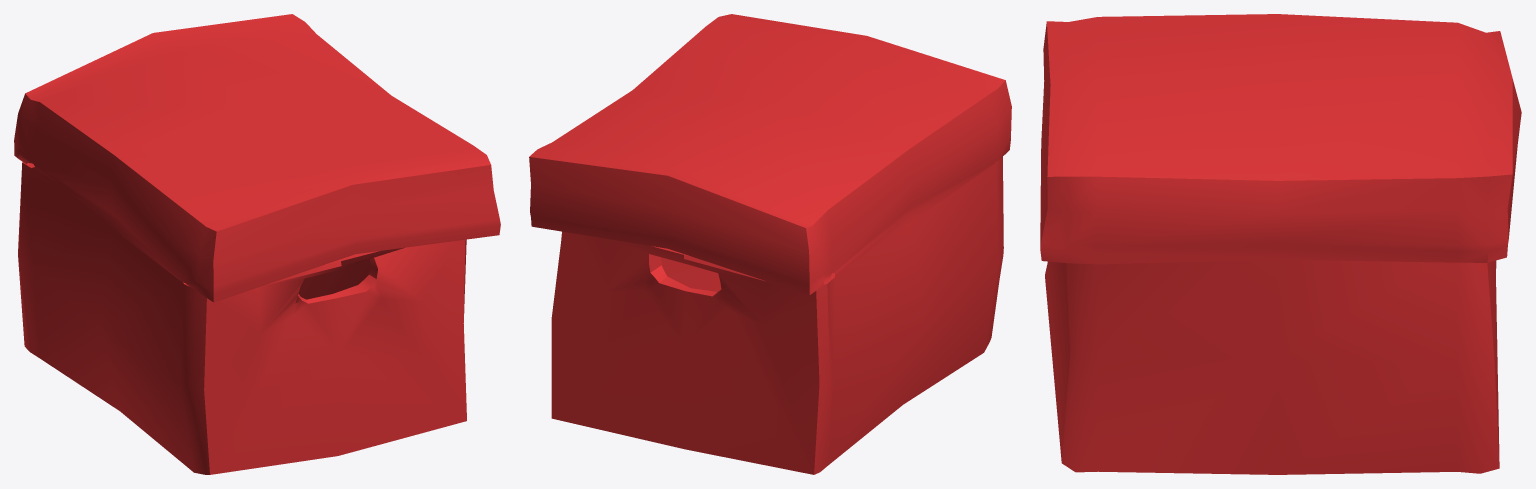
File: Skrzynka.fbx
3 views of the same model, side by side, from view 1: azimuth 30°, elevation 25°; view 2: azimuth 150°, elevation 25°; view 3: azimuth 270°, elevation 25° (orthographic). The views are drawn at different scales.
Parts seen in each view (by area): view 1: Skrzynia; view 2: Skrzynia; view 3: Skrzynia.
Boxes of the visible parts, box(x1,y1,x2,y2) form: Skrzynia: box(14, 14, 500, 474); Skrzynia: box(529, 14, 1011, 474); Skrzynia: box(1040, 14, 1521, 474).
Size of the model in its own units: 78.5 by 69.36 by 92.8.
